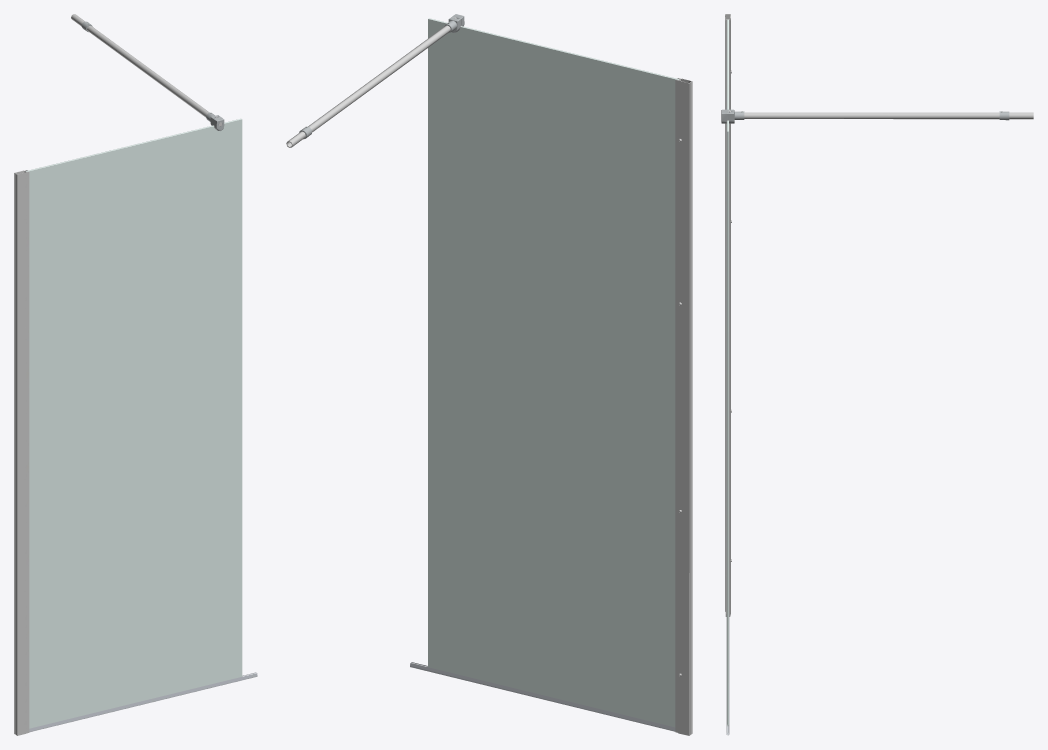
The picture shows the model from 3 angles, left to right: view 1: azimuth 30°, elevation 25°; view 2: azimuth 150°, elevation 25°; view 3: azimuth 270°, elevation 25°; orthographic projection. The views are drawn at different scales.
Visible parts, largest first — view 1: 50410165-OPPEJEN001; view 2: 50410165-OPPEJEN001; view 3: 50410165-OPPEJEN001.
Part boxes in pixels (<box>): 50410165-OPPEJEN001: <box>14,14,257,735</box>; 50410165-OPPEJEN001: <box>286,14,692,735</box>; 50410165-OPPEJEN001: <box>721,14,1033,735</box>.
Size of the model in its own units: 0.8967 by 2.02 by 0.9458.
Materials: 2 (2 with a texture image).
